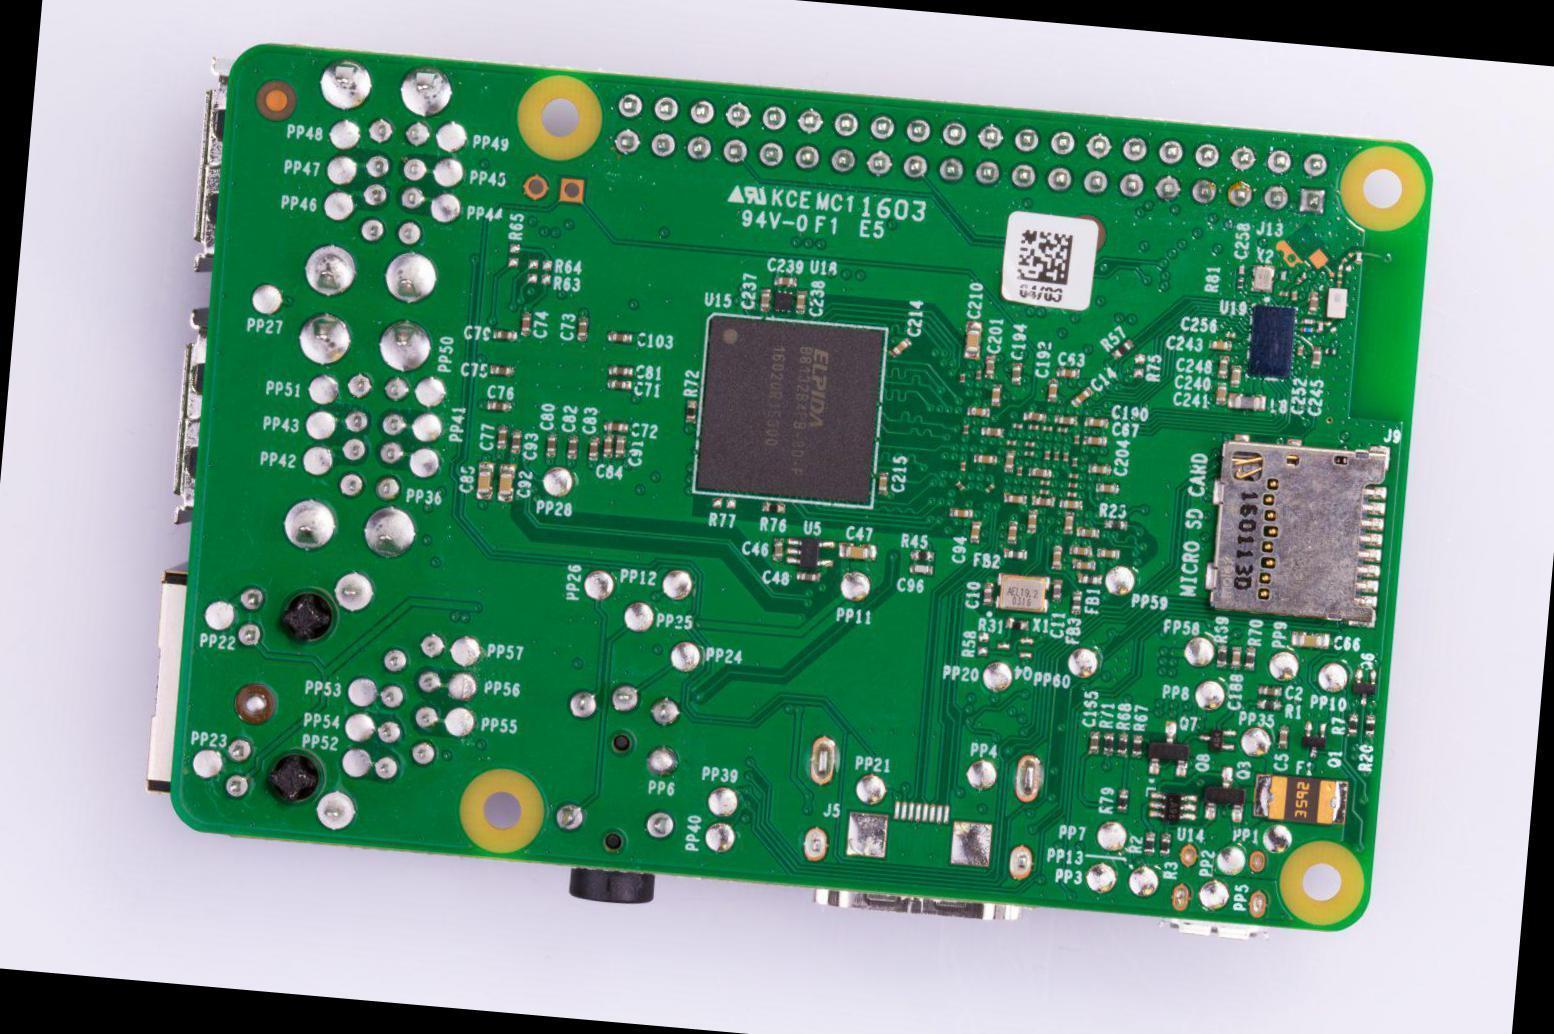Capacitor: (962, 318, 984, 360), (837, 539, 878, 561), (474, 461, 495, 500), (1290, 630, 1330, 649), (497, 462, 515, 502), (1069, 383, 1094, 409), (888, 335, 911, 360), (564, 433, 580, 460), (770, 274, 798, 288), (487, 363, 514, 378), (1086, 461, 1112, 475), (585, 435, 600, 462), (875, 470, 890, 496), (1256, 683, 1283, 698), (607, 364, 635, 377), (793, 288, 808, 314), (683, 398, 698, 423), (576, 315, 589, 342), (603, 420, 630, 434), (613, 433, 626, 459), (1309, 344, 1323, 369), (546, 432, 558, 459), (771, 536, 785, 561), (1275, 723, 1289, 749), (1228, 363, 1242, 387), (1055, 366, 1081, 379), (1083, 416, 1110, 428), (607, 377, 633, 390), (908, 562, 935, 575), (981, 580, 994, 605), (759, 284, 771, 313), (606, 331, 634, 343), (794, 570, 822, 582), (601, 433, 614, 458), (510, 429, 523, 455), (1230, 644, 1243, 669), (983, 355, 996, 380), (493, 329, 517, 342), (1045, 379, 1058, 403), (1083, 434, 1108, 447), (486, 400, 512, 412), (1011, 362, 1024, 384), (1215, 382, 1228, 405), (496, 425, 508, 450), (1051, 577, 1064, 600), (969, 519, 981, 543), (1209, 339, 1232, 351), (1218, 354, 1229, 378), (1088, 730, 1098, 755), (1295, 345, 1304, 358), (1237, 265, 1244, 274), (1226, 331, 1235, 338)
Connector: (517, 167, 593, 210)
IC: (1203, 437, 1396, 632), (687, 315, 876, 511), (1247, 303, 1297, 377), (1146, 786, 1197, 825), (769, 287, 795, 313)
Inductor: (1228, 390, 1267, 411)
Pads: (841, 795, 1000, 870), (1273, 238, 1330, 269), (996, 633, 1038, 660), (505, 241, 520, 268), (526, 256, 553, 271), (711, 495, 737, 510), (1132, 351, 1146, 379), (526, 271, 552, 285), (977, 631, 989, 658)
Pins: (608, 85, 1333, 220), (290, 235, 442, 375), (272, 495, 419, 622), (369, 623, 447, 790), (334, 368, 413, 502), (355, 112, 433, 246), (311, 53, 460, 120), (560, 673, 693, 731), (795, 722, 842, 862), (548, 795, 679, 845), (1002, 749, 1048, 883), (307, 781, 365, 834), (233, 581, 268, 653), (228, 734, 262, 803), (1242, 846, 1273, 920), (1168, 841, 1198, 912)
Resistor: (1109, 335, 1135, 363), (909, 547, 936, 562), (1004, 617, 1030, 631), (1254, 697, 1281, 711), (1101, 518, 1128, 531), (761, 500, 787, 514), (1215, 642, 1228, 669), (1130, 732, 1143, 757), (1244, 643, 1256, 669), (1361, 714, 1376, 736), (1117, 787, 1130, 812), (1345, 712, 1359, 735), (1116, 733, 1128, 757), (1102, 730, 1115, 753), (1143, 830, 1156, 853), (1159, 831, 1171, 856), (1235, 276, 1245, 290)
Transistor: (1195, 762, 1248, 822), (1145, 718, 1191, 776), (1195, 723, 1236, 753), (1299, 718, 1328, 757), (1348, 667, 1378, 703)
